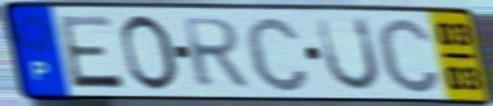C: (241, 13, 313, 95), (373, 14, 444, 96)
E: (55, 13, 128, 91)
O: (118, 12, 183, 93)
R: (179, 16, 253, 91)
U: (314, 15, 384, 95)
